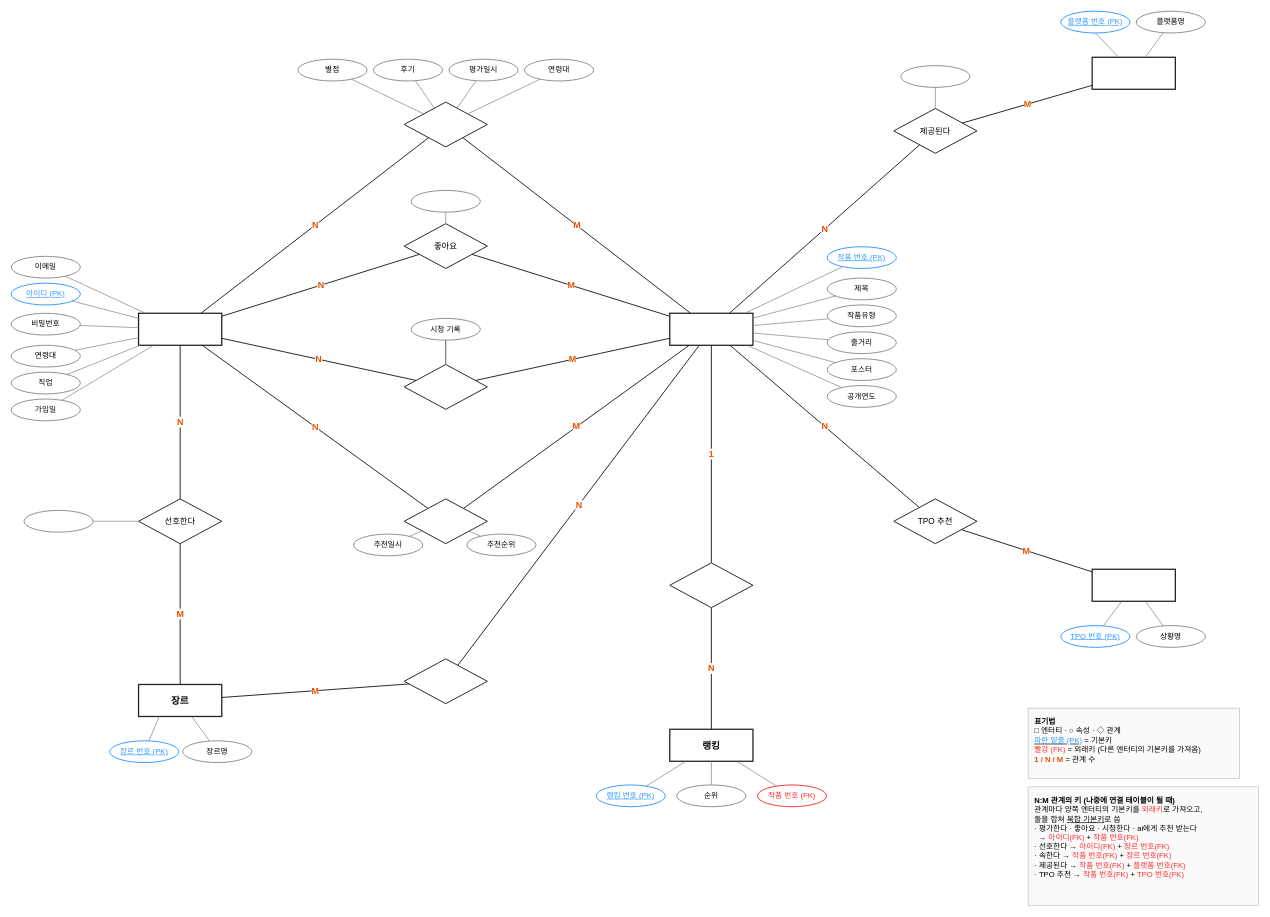
Some shapes in this 1270 by 917 pixel diagram are drawn without their labels. Each missing label, with the centre of its shape:
"ai에게 추천 받는다" belongs at (x=445, y=521).
"OTT" belongs at (x=1133, y=73).
"TPO" belongs at (x=1133, y=585).
"딥링크주소" belongs at (x=935, y=76).
"속한다" belongs at (x=445, y=681).
"시청한다" belongs at (x=445, y=386).
"작품" belongs at (x=711, y=329).
"좋아요 기록" belongs at (x=445, y=201).
"집계된다" belongs at (x=711, y=585).
"취향구분" belongs at (x=58, y=521).
"평가한다" belongs at (x=445, y=124).
"회원" belongs at (x=180, y=329).
